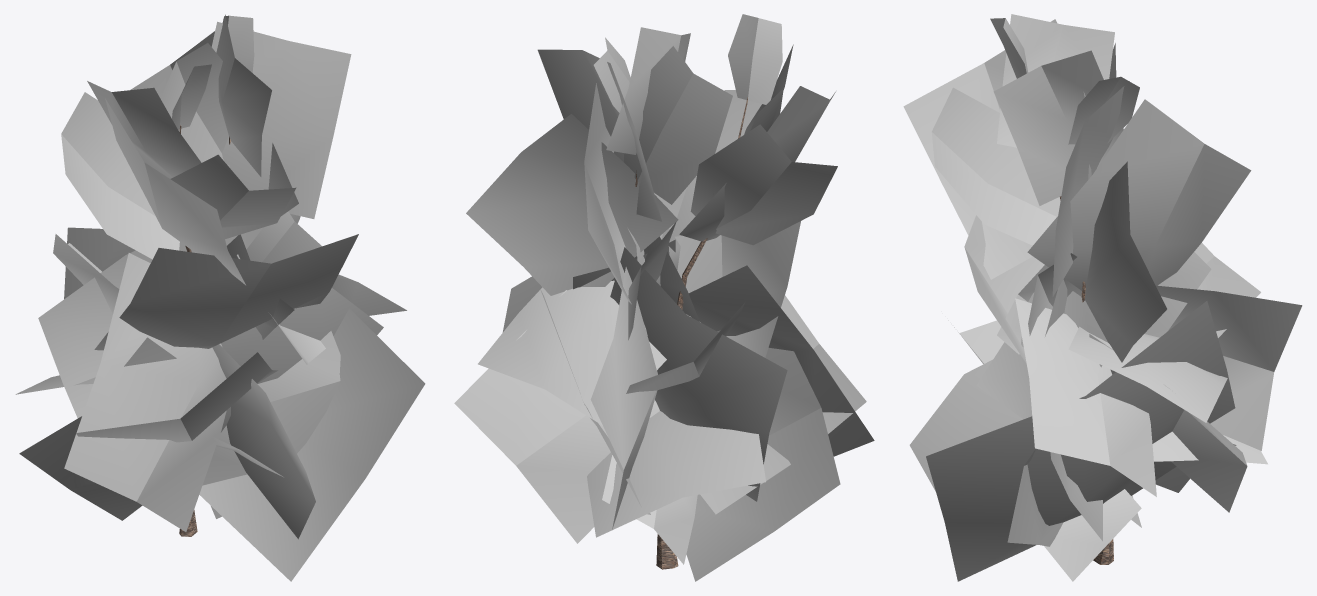
File: forest_tree1.fbx
3 views of the same model, side by side, from view 1: azimuth 30°, elevation 25°; view 2: azimuth 150°, elevation 25°; view 3: azimuth 270°, elevation 25° (orthographic). The views are drawn at different scales.
Parts seen in each view (by area): view 1: Tree-03-4; view 2: Tree-03-4; view 3: Tree-03-4.
Part boxes in pixels (x1,y1,x2,y2): Tree-03-4: (15,14,425,581); Tree-03-4: (454,14,874,581); Tree-03-4: (903,14,1302,581).
Bounding box in the file's own units: 9.64 × 13.48 × 9.18.
